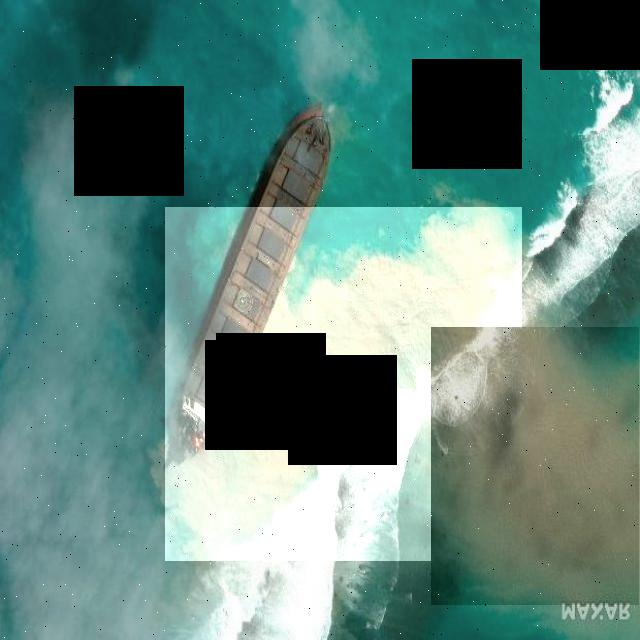oil spill: (165, 207, 522, 561), (432, 327, 640, 605)
